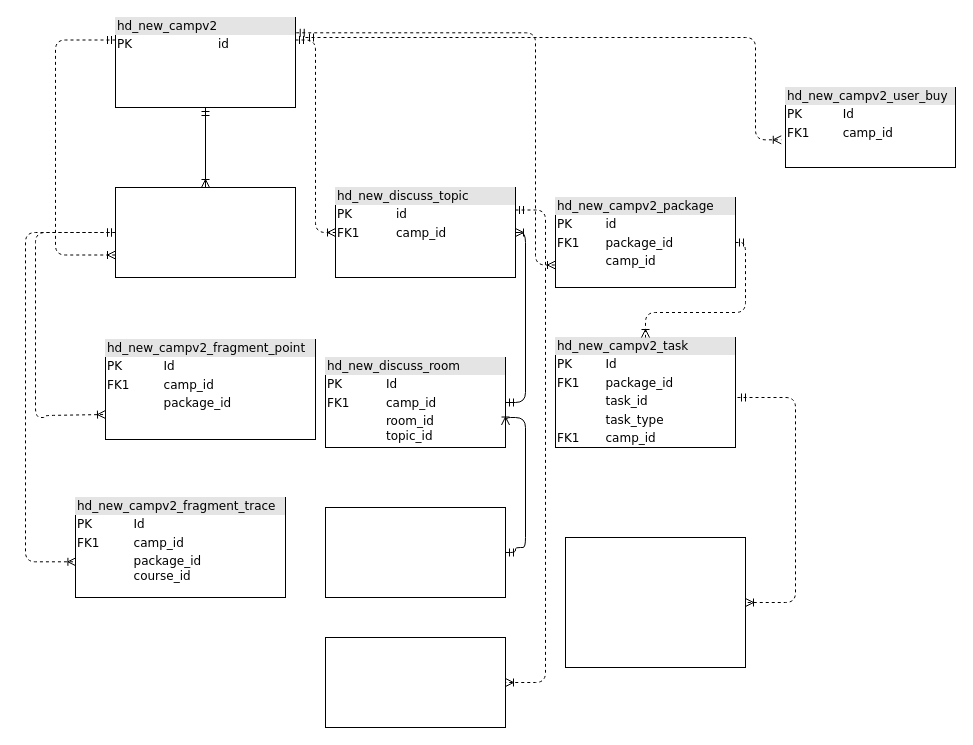
Some shapes in this 973 by 745 pixel diagram are drawn without their labels. The centre of each missing label's shape, as x and y in pixels:
"hd_new_campv2_fragment PK id FK package_id camp_id course_id" belongs at point (205, 232).
"hd_new_campv2_task_flow PK Id user_id FK task_id camp_id package_id task_type" belongs at point (655, 602).
"hd_new_discuss_bespeak PK Id FK1 topic_id user_id" belongs at point (415, 682).
"hd_new_discuss_user_enter PK Id FK1 room_id FK1 user_id" belongs at point (415, 552).
